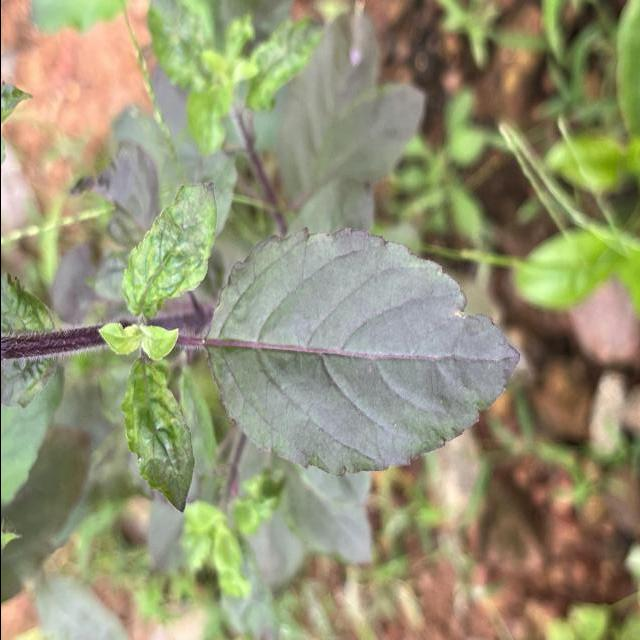Ocimum tenuiflorum: (198, 218, 524, 482)
